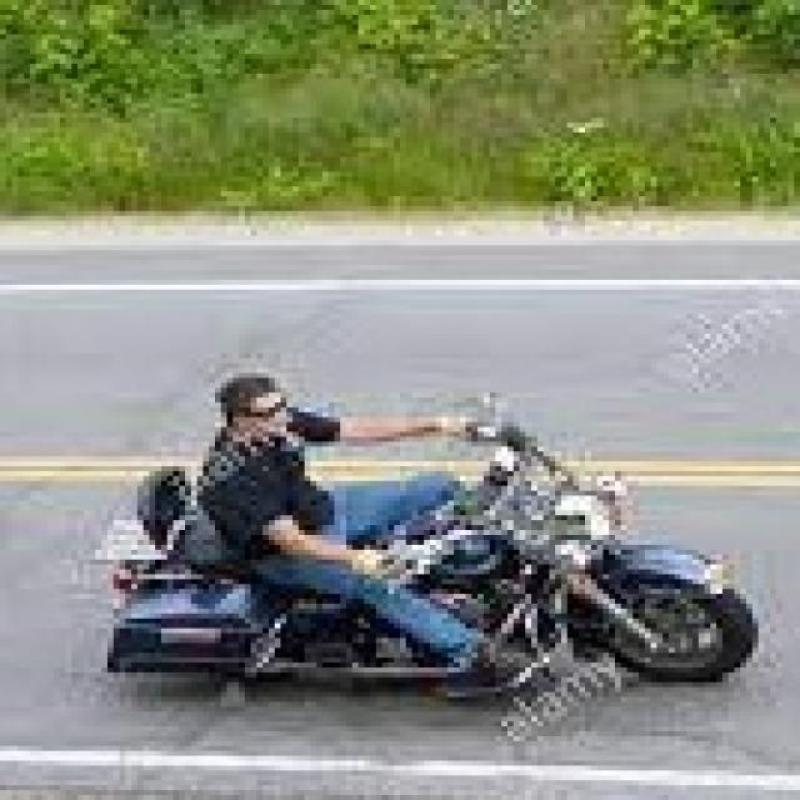nohelmet: (212, 360, 308, 440)
